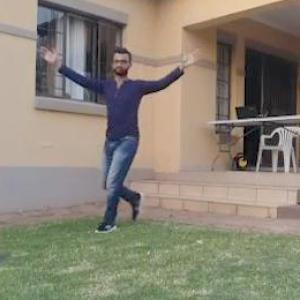takeoff: (45, 50, 209, 234)
